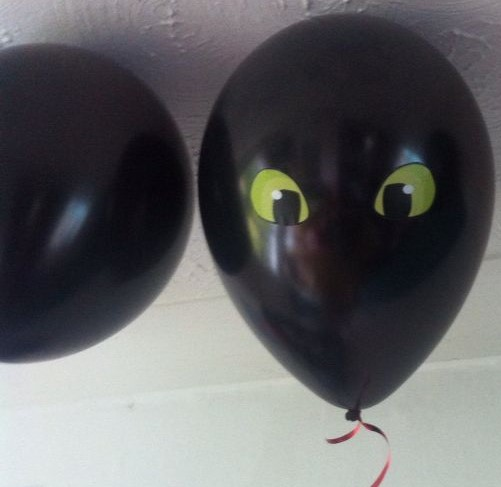Balloon: (200, 13, 494, 407), (1, 43, 192, 365)
